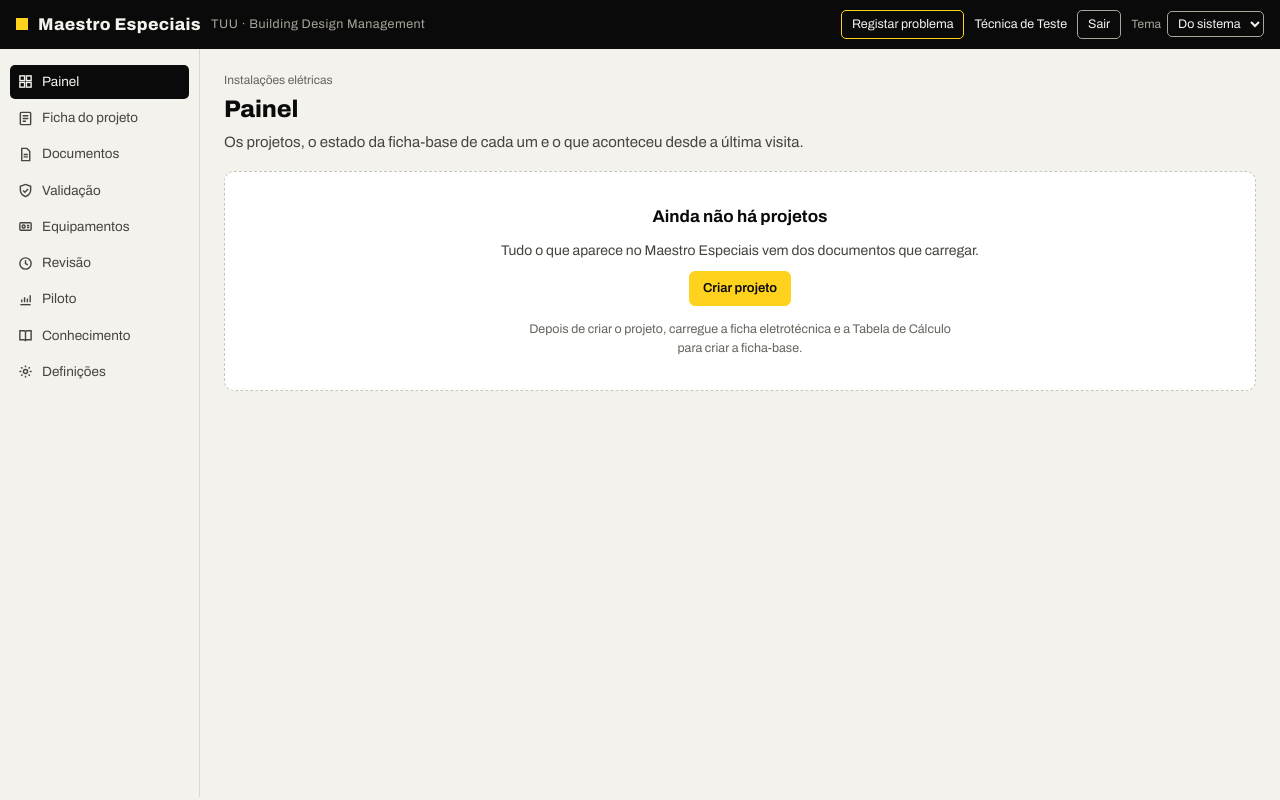
Test: login (accounts with a password, until D6) › signs out with Sair
What coordinates should you click on to do the following:
click the button "Sair"
I would click on:
 (1099, 24)
Its box is [1077, 10, 1121, 39].
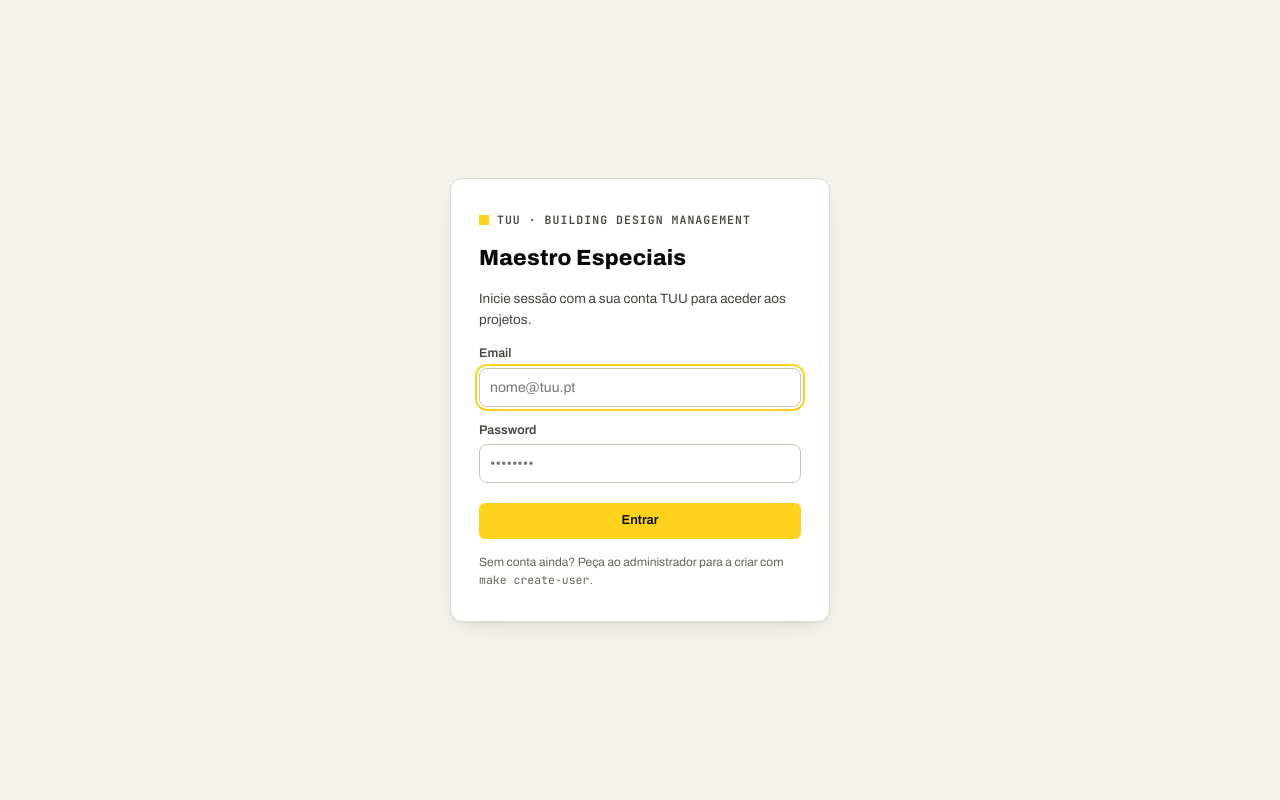
Result: the button "Entrar" is shown at [479, 503, 801, 539]
